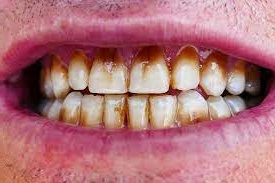Tooth Discoloration: (49, 43, 253, 100), (55, 102, 92, 130), (176, 107, 220, 127), (111, 93, 130, 131)
